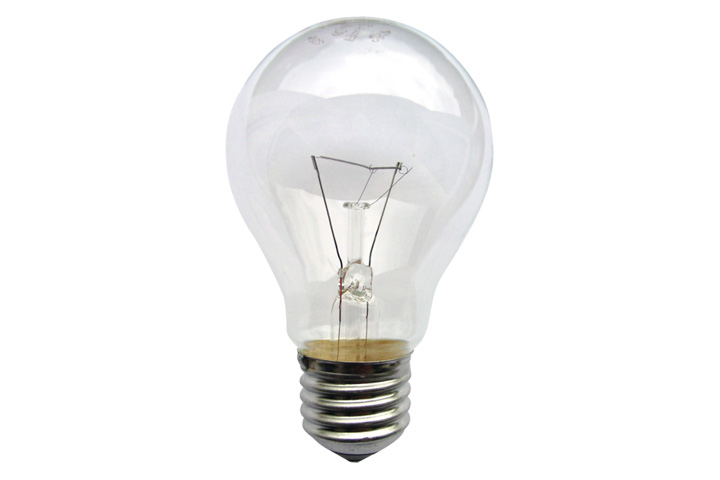Light bulb: (217, 11, 501, 468)
